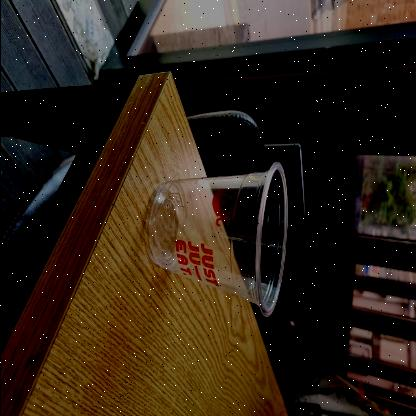Others: (137, 157, 291, 320)
